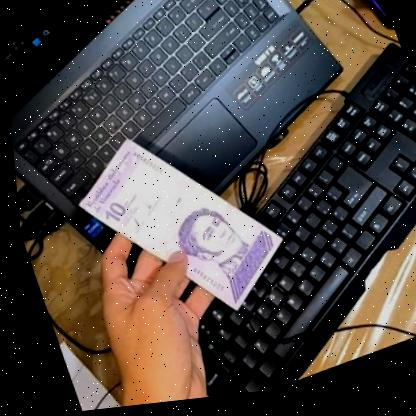ten-front-vef: (57, 100, 296, 359)
